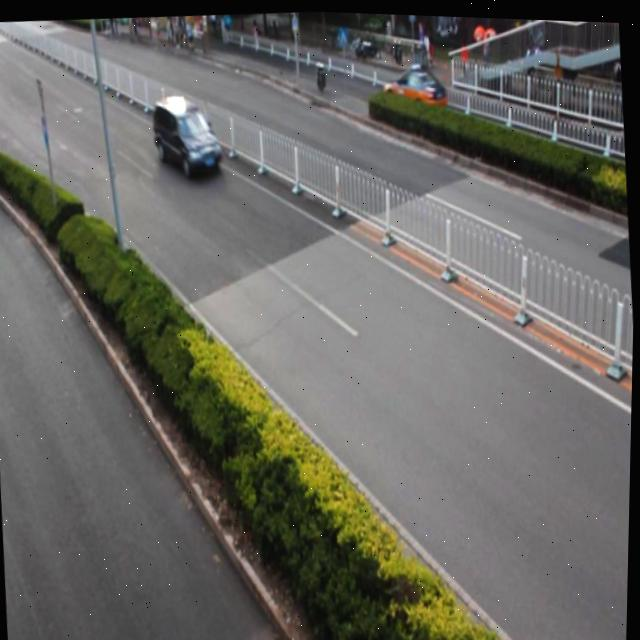car: (150, 92, 222, 179), (379, 58, 446, 116)
